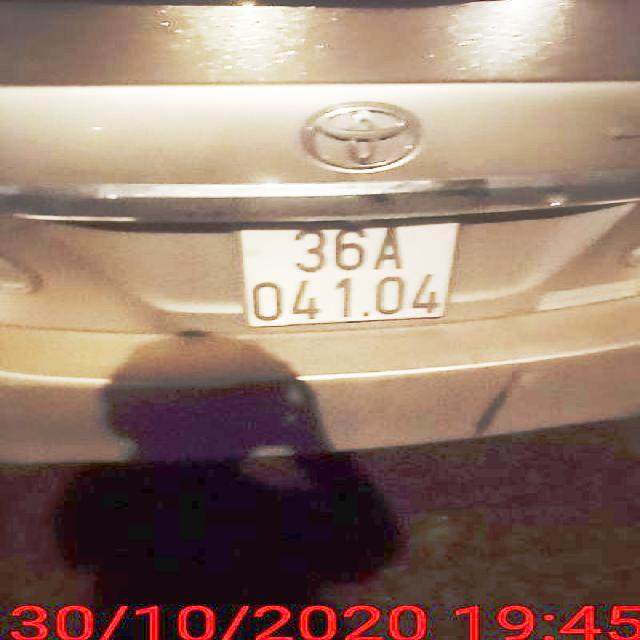license_plate: (241, 223, 459, 329)
